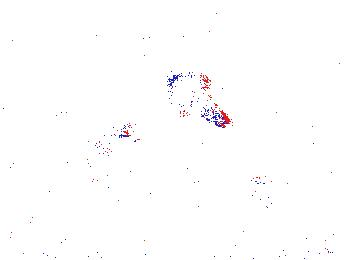flame jellyfish: (66, 123, 140, 183), (161, 66, 231, 129), (243, 160, 314, 203)
